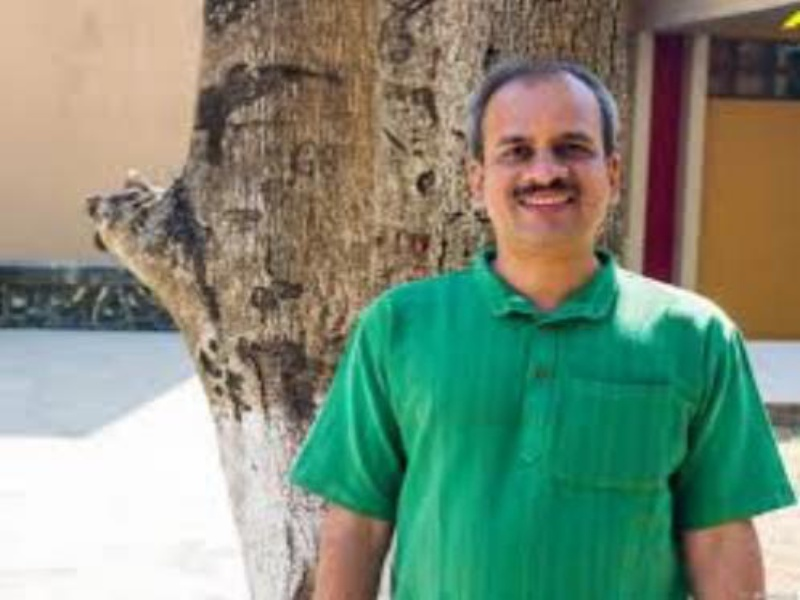TsisyArotava: (457, 57, 644, 268)
